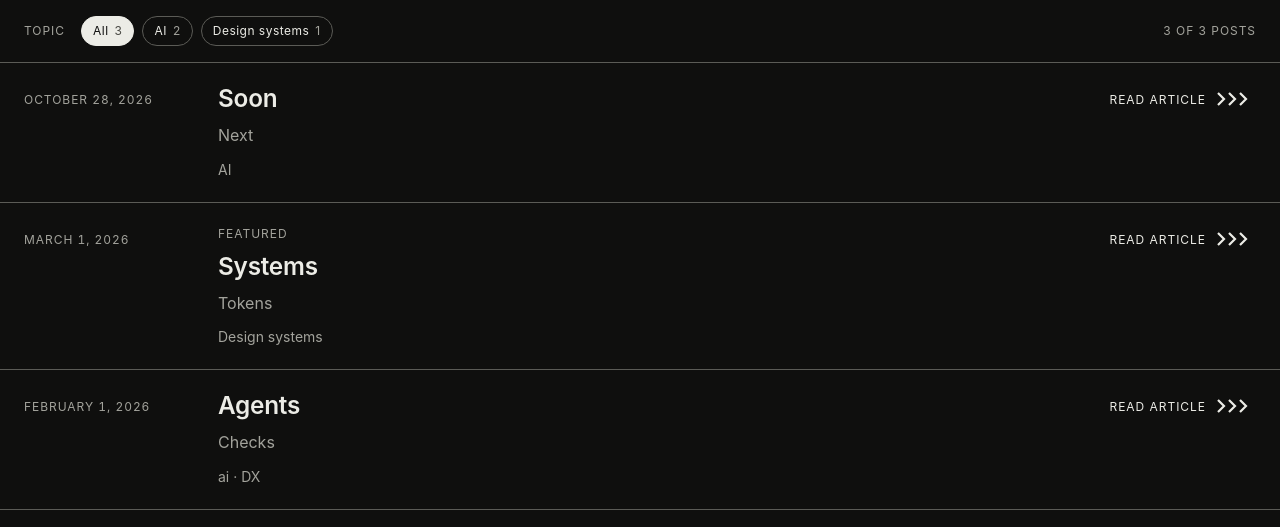
Test case: WritingPostFilters › should filter with native toggle buttons and announce the count
What coordinates should you click on to do the following:
click the button "AI2"
I would click on:
 (168, 31)
Its box is top-left (142, 16), bottom-right (193, 46).
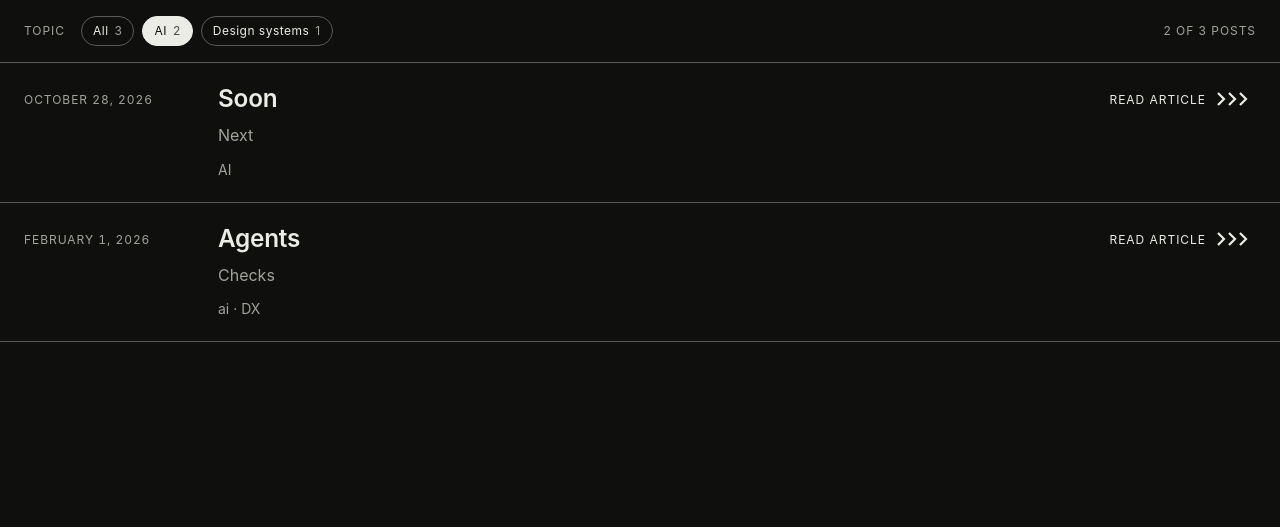
Expected: the headings read "Soon", "Agents", in this order, top-left (218, 83), bottom-right (277, 113); top-left (218, 222), bottom-right (300, 252)
Expected: the message reads "2 of 3 posts", top-left (1163, 23), bottom-right (1256, 38)
What coordinates should you click on to do the following:
click the button "All3"
I would click on:
 (108, 31)
Its box is top-left (81, 16), bottom-right (134, 46).
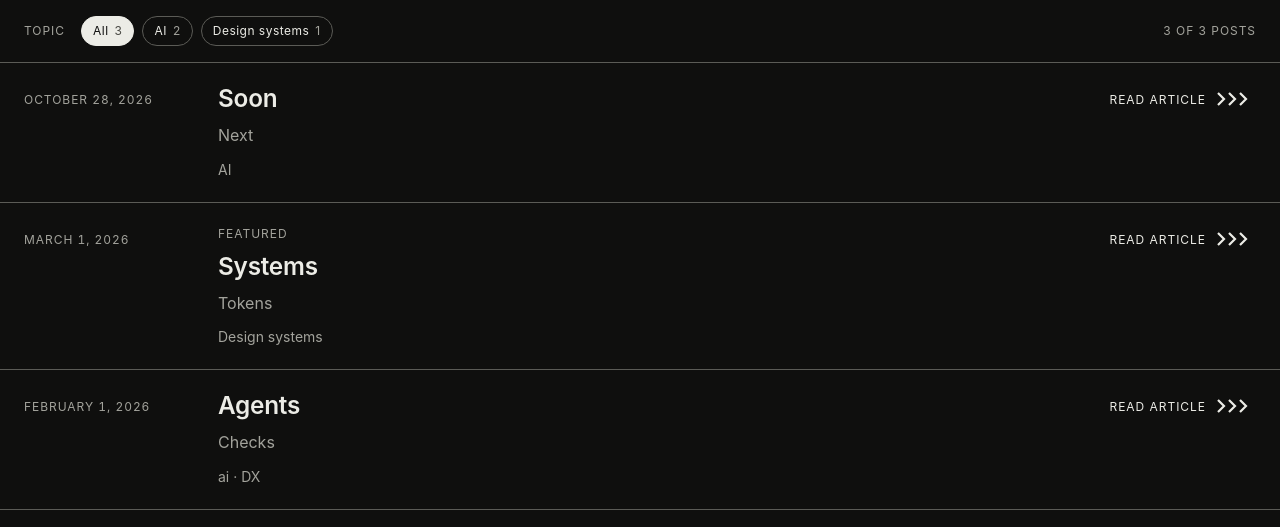
Expected: the number of headings is 3, top-left (218, 83), bottom-right (277, 113); top-left (218, 250), bottom-right (318, 280); top-left (218, 390), bottom-right (300, 420)
